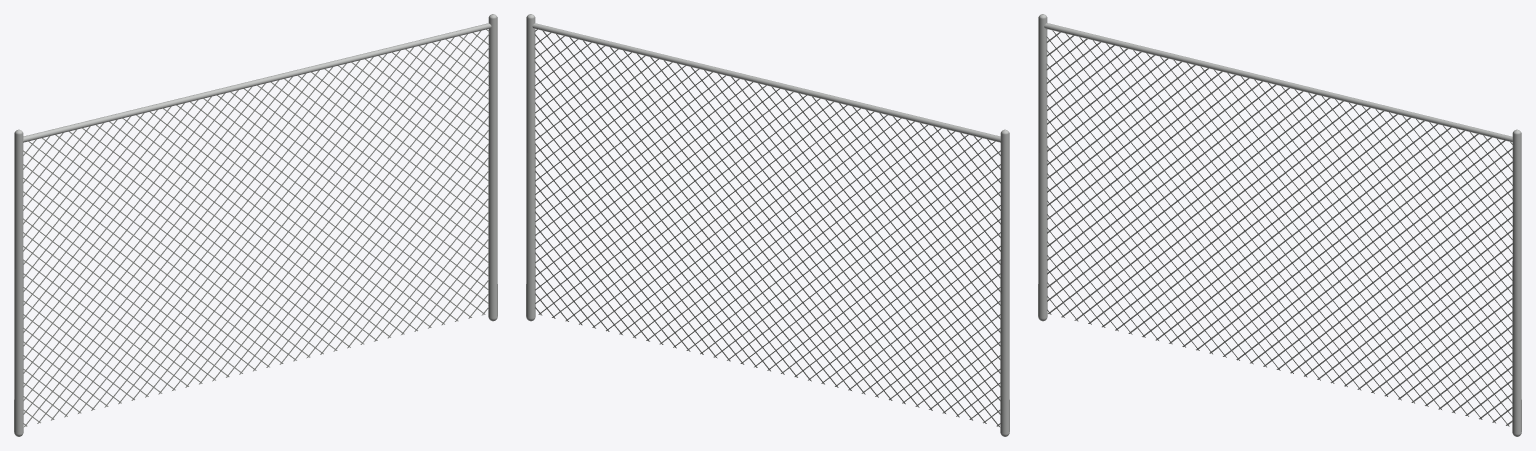
File: fence_panel.glb
3 views of the same model, side by side, from view 1: azimuth 30°, elevation 25°; view 2: azimuth 150°, elevation 25°; view 3: azimuth 330°, elevation 25° (orthographic).
Visible parts, largest first — view 1: fence_panel; view 2: fence_panel; view 3: fence_panel.
Boxes of the visible parts, box(x1,y1,x2,y2) form: fence_panel: box(14, 14, 497, 436); fence_panel: box(526, 14, 1009, 436); fence_panel: box(1038, 14, 1521, 436).
Size of the model in its own units: 4.07 by 2.47 by 0.07.
Materials: 2 (1 with a texture image).
